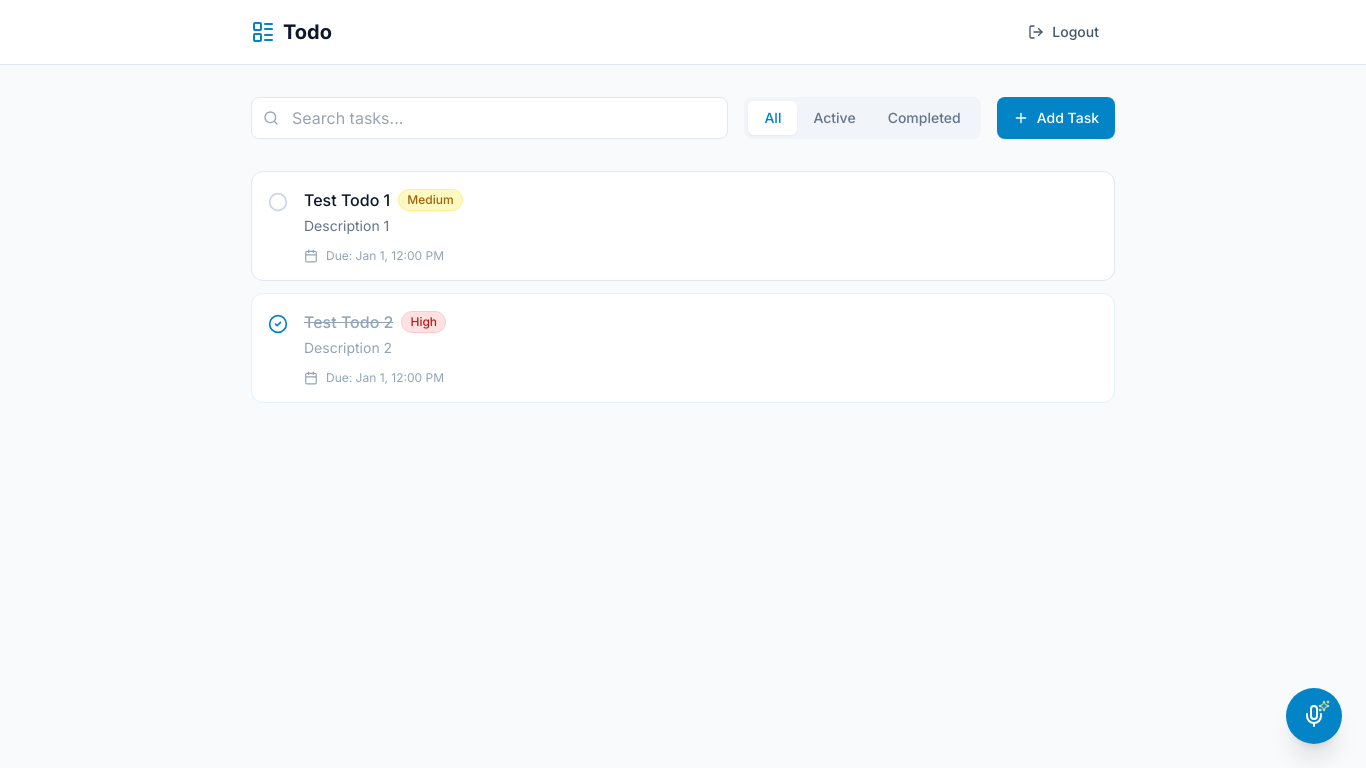
Test: TodoList Component › filters todos correctly
Expected: the heading "Test Todo 1" is shown, [304,188,390,212]
Note: Switch to 'Active'
Click the button "Active" at (834, 118), box [797,101,872,135]
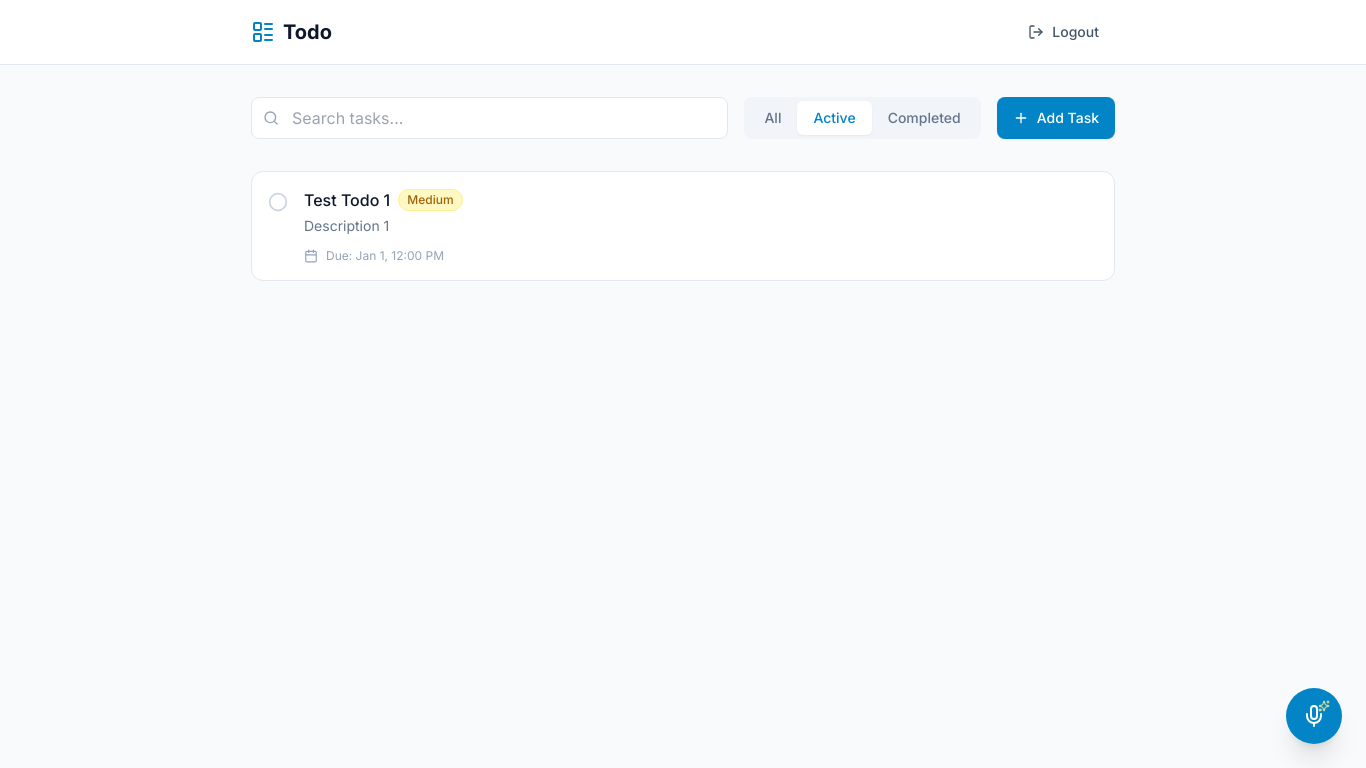
Expected: the heading "Test Todo 1" is shown, [304,188,390,212]
Result: the heading "Test Todo 2" is gone
Note: Switch to 'Completed'
Click the button "Completed" at (924, 118), box [872,101,977,135]
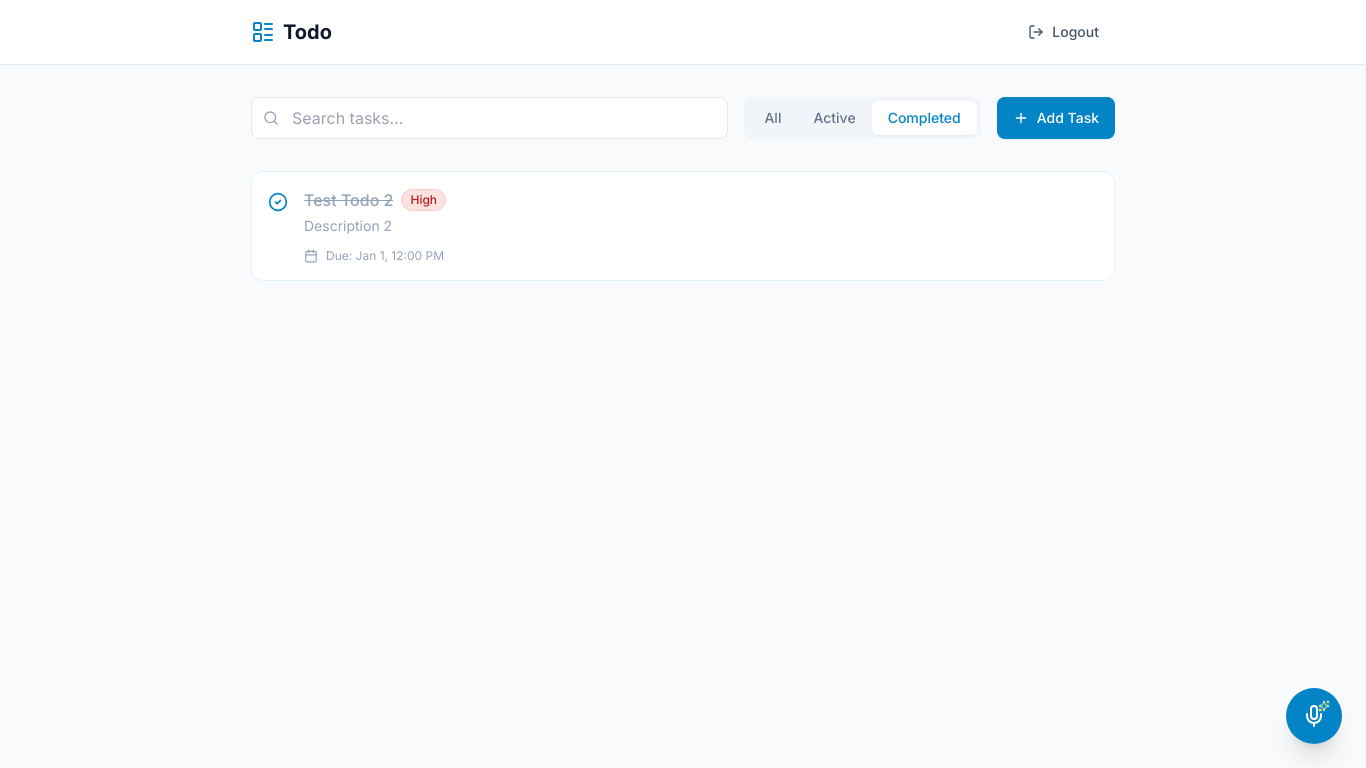
Result: the heading "Test Todo 1" is gone
Result: the heading "Test Todo 2" is shown at [304,188,394,212]
